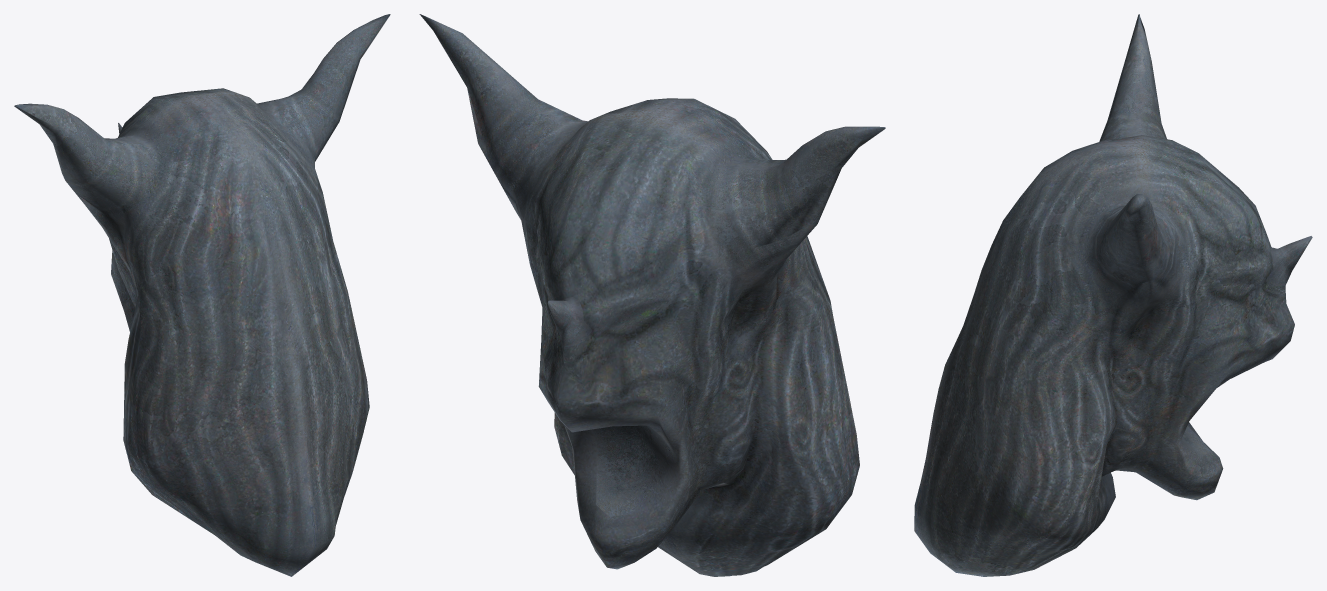
Rendered from Head1Lod2.FBX.
3 views of the same model, side by side, from view 1: azimuth 30°, elevation 25°; view 2: azimuth 150°, elevation 25°; view 3: azimuth 270°, elevation 25° (orthographic). The views are drawn at different scales.
Visible parts, largest first — view 1: Group23620; view 2: Group23620; view 3: Group23620.
Boxes of the visible parts, x1=… form: Group23620: x1=14, y1=14, x2=390, y2=576; Group23620: x1=419, y1=14, x2=885, y2=576; Group23620: x1=914, y1=14, x2=1312, y2=576.
Bounding box in the file's own units: 157 × 182 × 141.
Materials: 1 (1 with a texture image).
